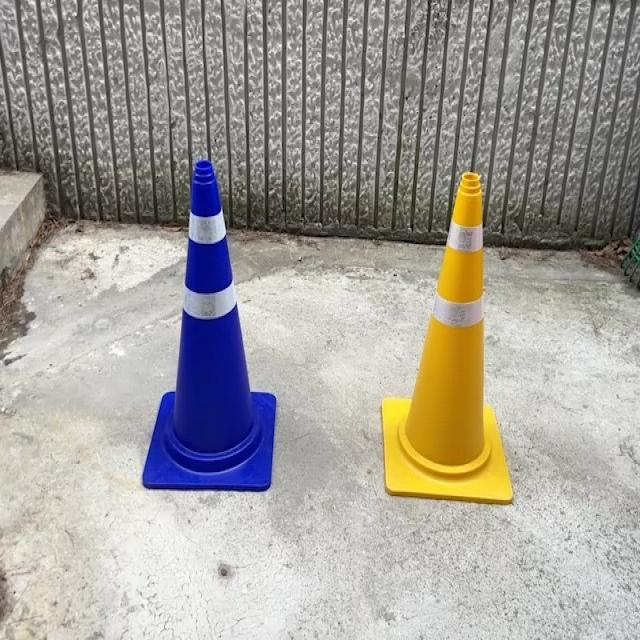b_rub: (142, 160, 276, 491)
y_rub: (383, 172, 514, 503)
